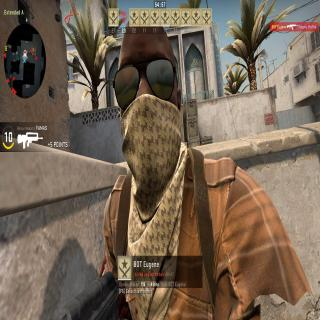T-Body: (78, 18, 311, 320)
T-Head: (110, 17, 187, 181)
